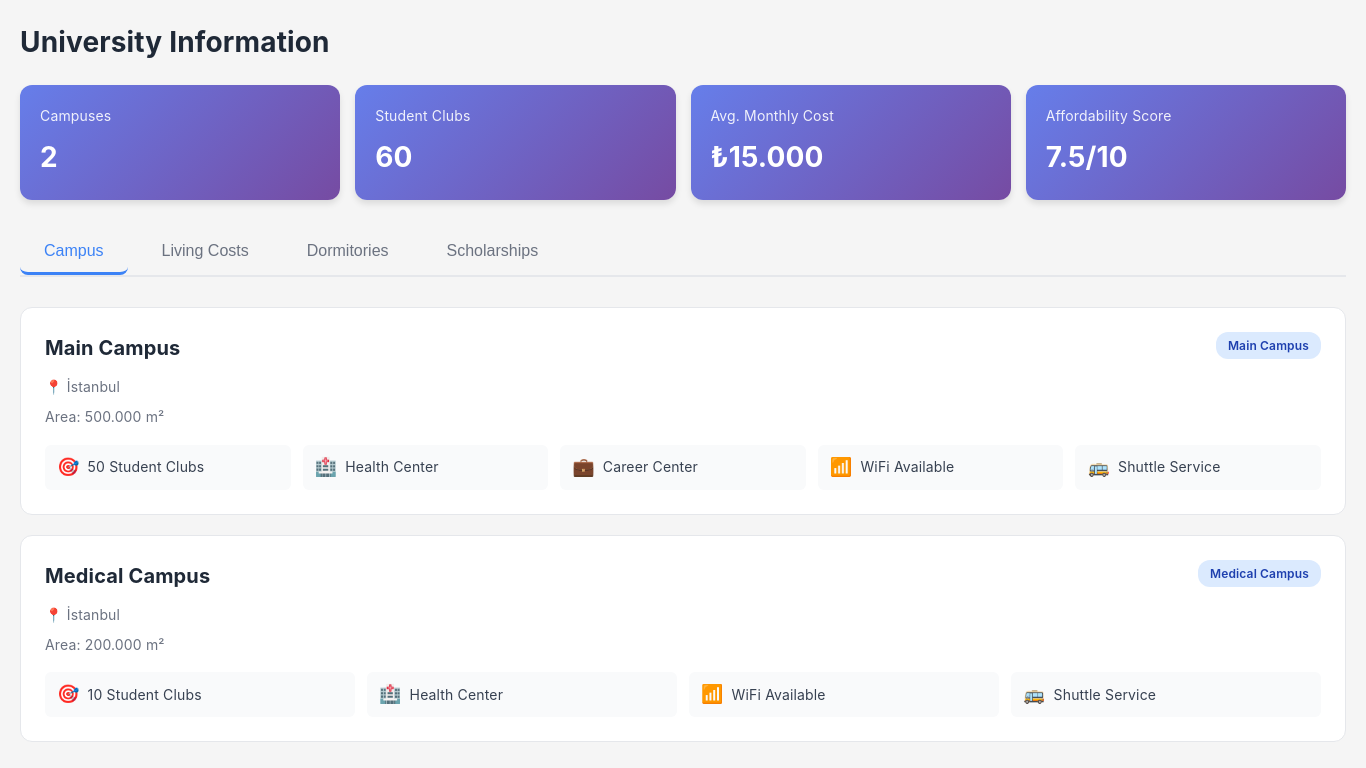
Test: UniversityInfo - Living Costs Tab › switches to living costs tab
Expected: the button "Campus" is shown, [20,230,128,275]
Step 1. Click the button "Living Costs" → point(205, 252), box [138,230,273,275]
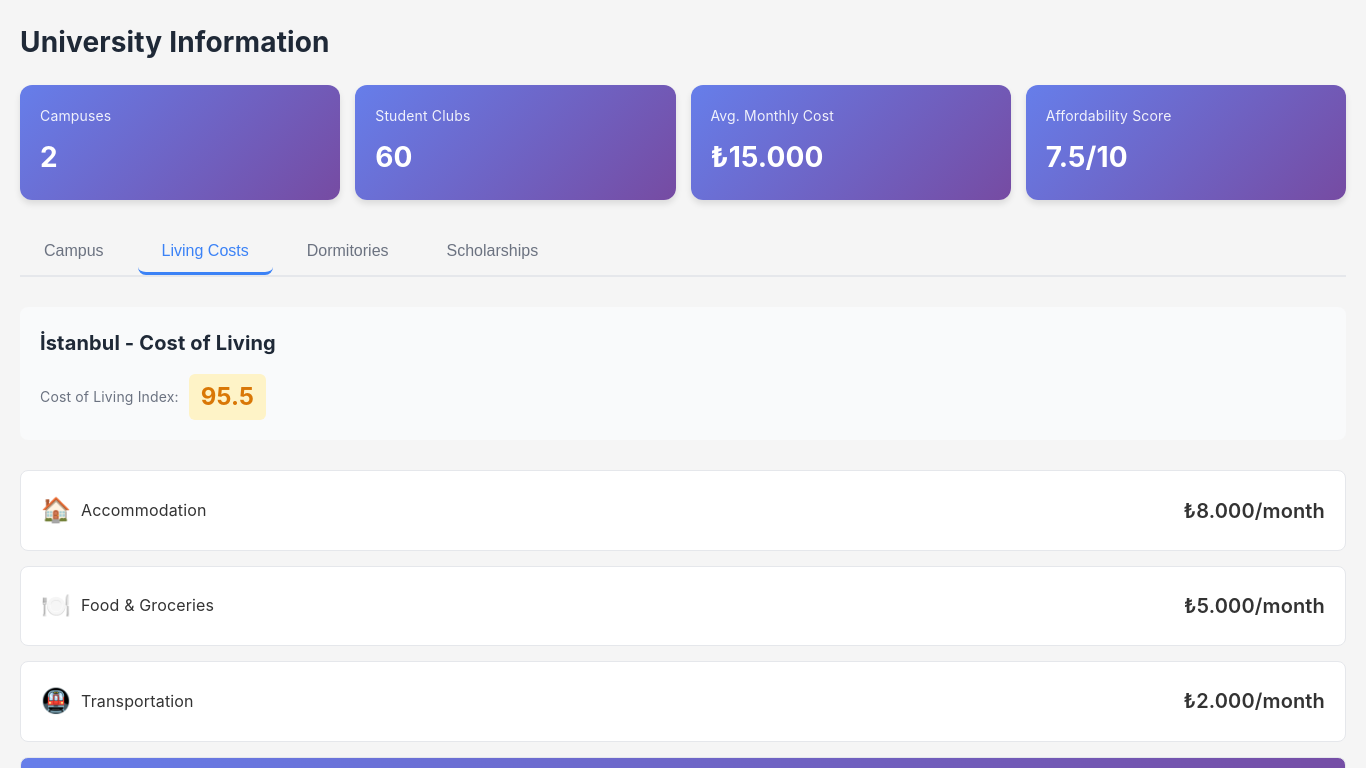
Expected: the heading "İstanbul - Cost of Living" is shown, [40,331,276,355]
